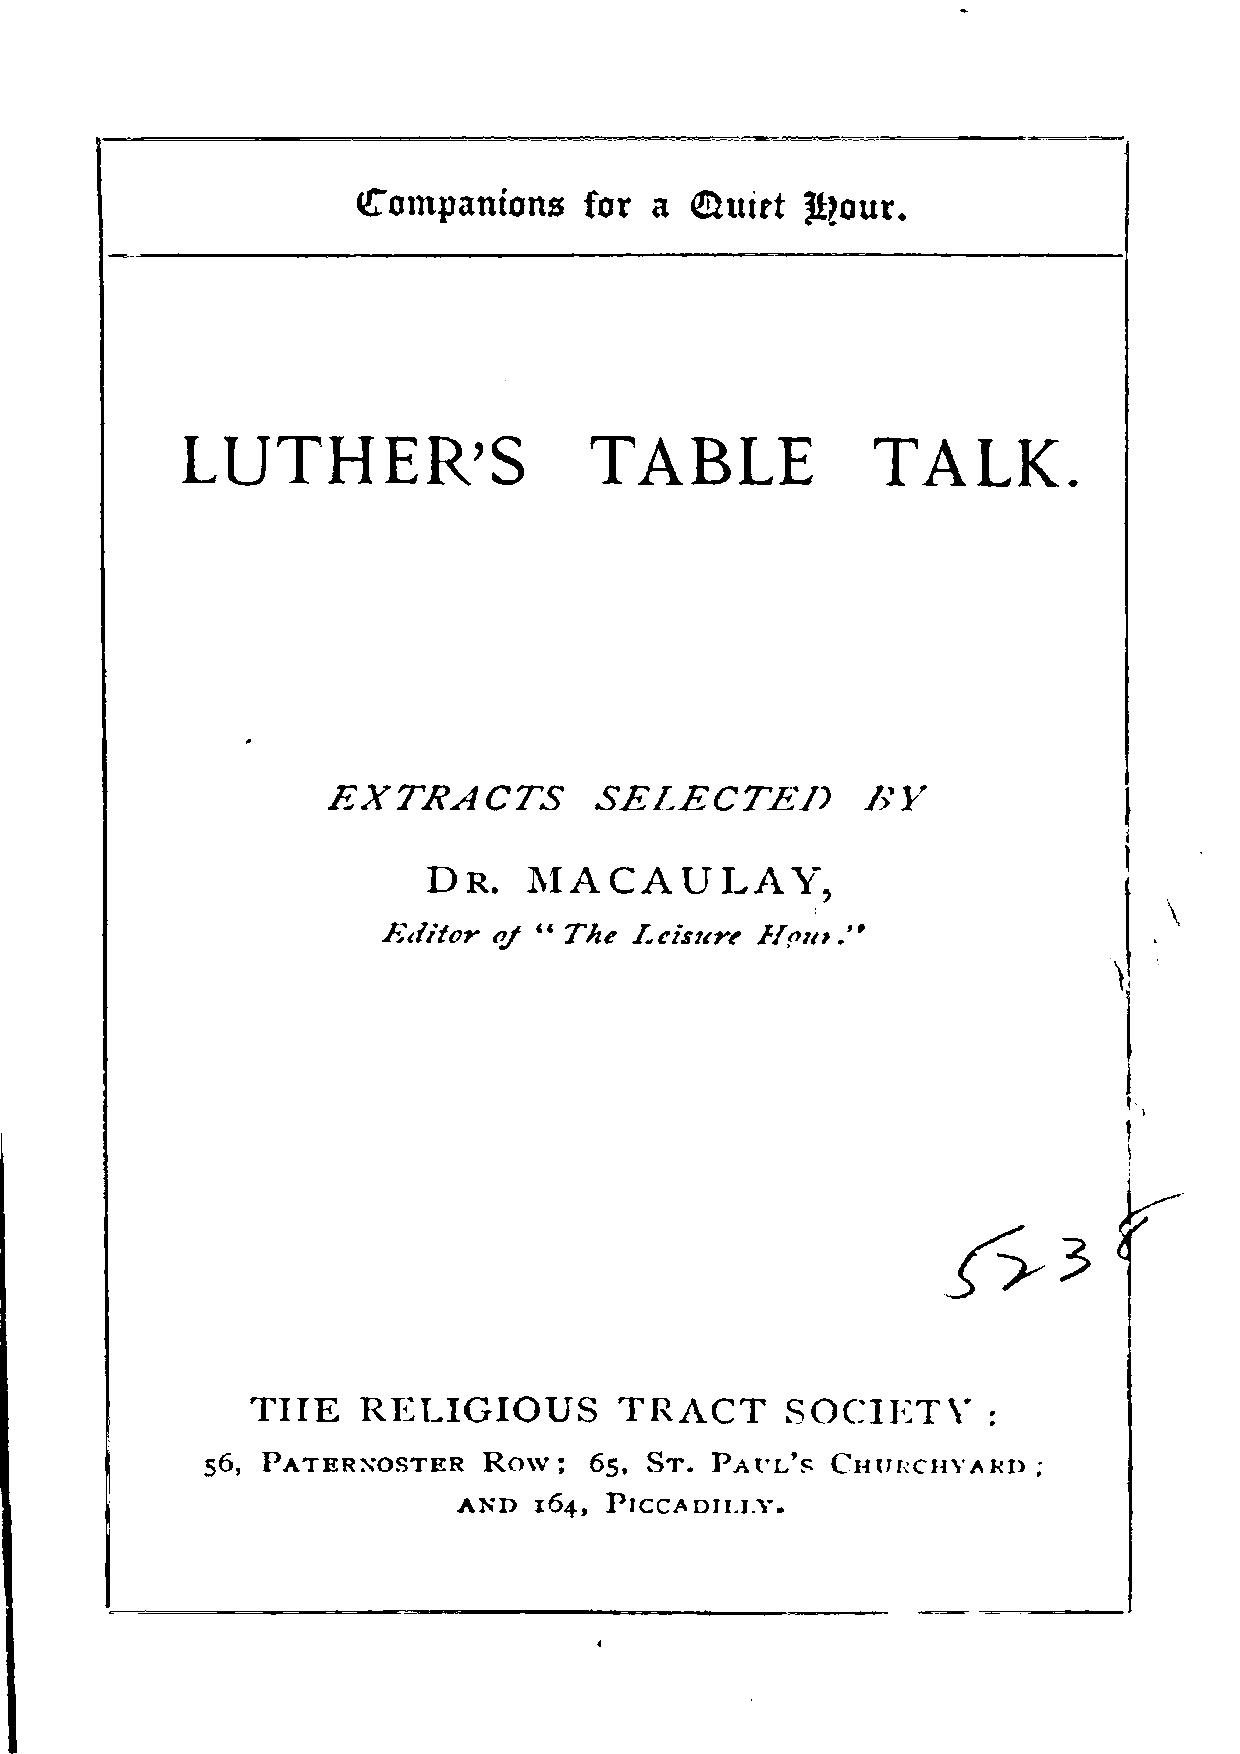author: (424, 863, 831, 905)
title: (178, 433, 1076, 486)
